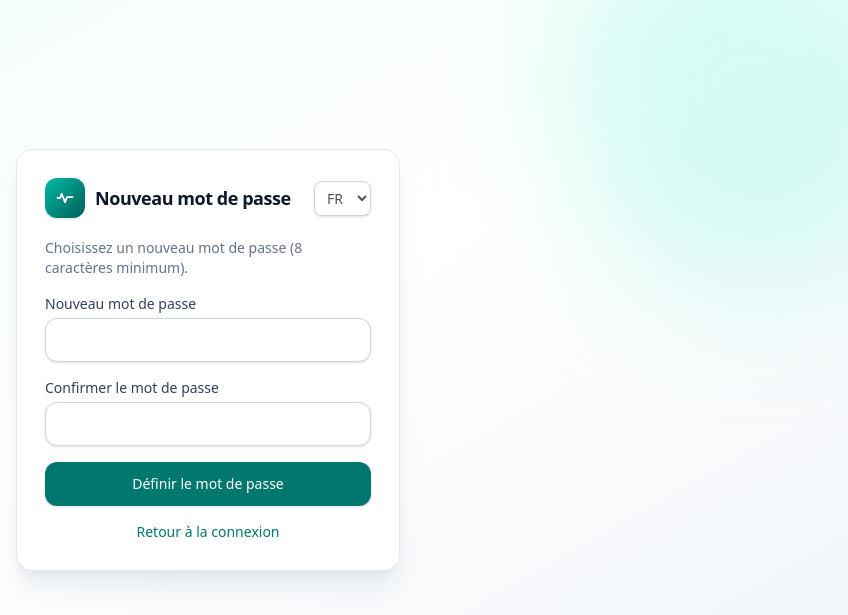
Test case: ResetPassword › refuse si les deux mots de passe different (pas d appel backend)
The image size is (848, 615).
In the password field labelled "Nouveau mot de passe": (208, 340) [45, 318, 371, 362], type "abcd1234"
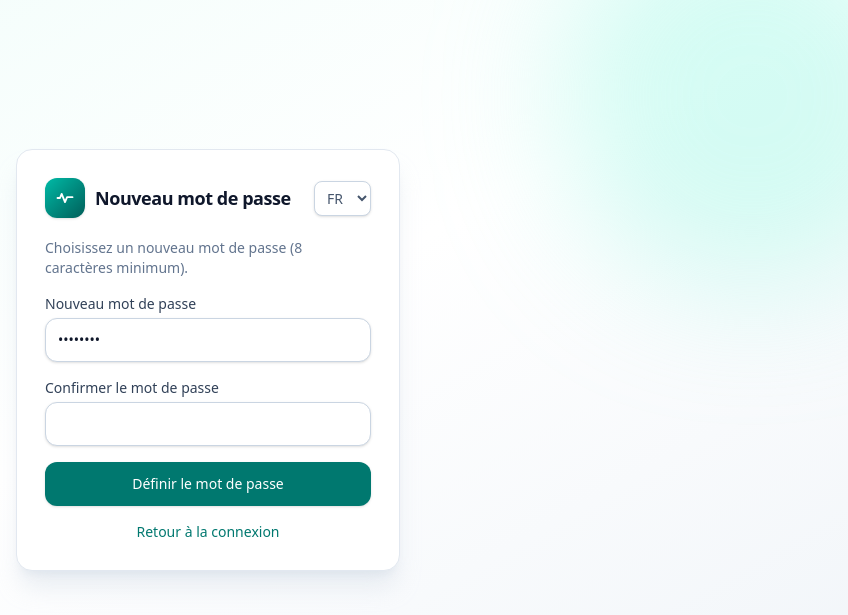
In the password field labelled "Confirmer le mot de passe": (208, 424) [45, 402, 371, 446], type "different1"
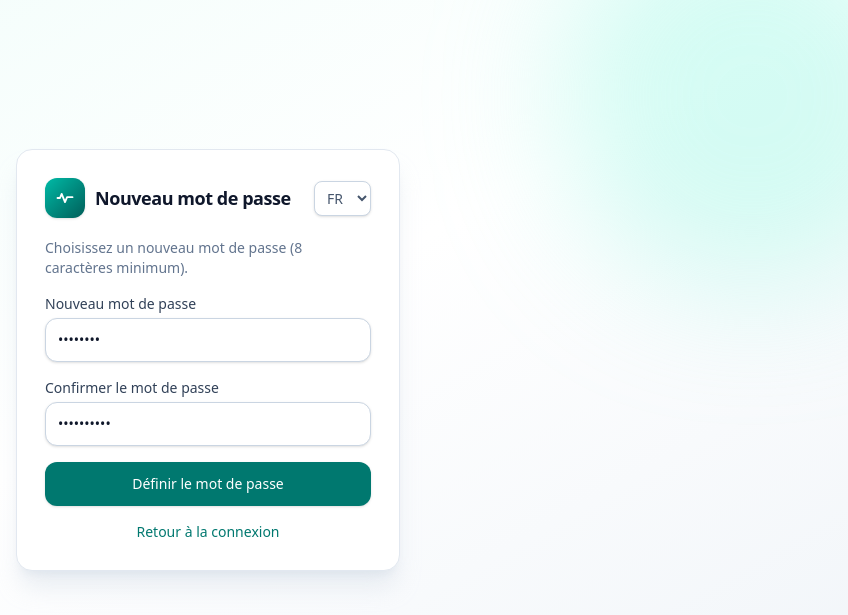
Click the button "Définir le mot de passe": (208, 484) [45, 462, 371, 506]
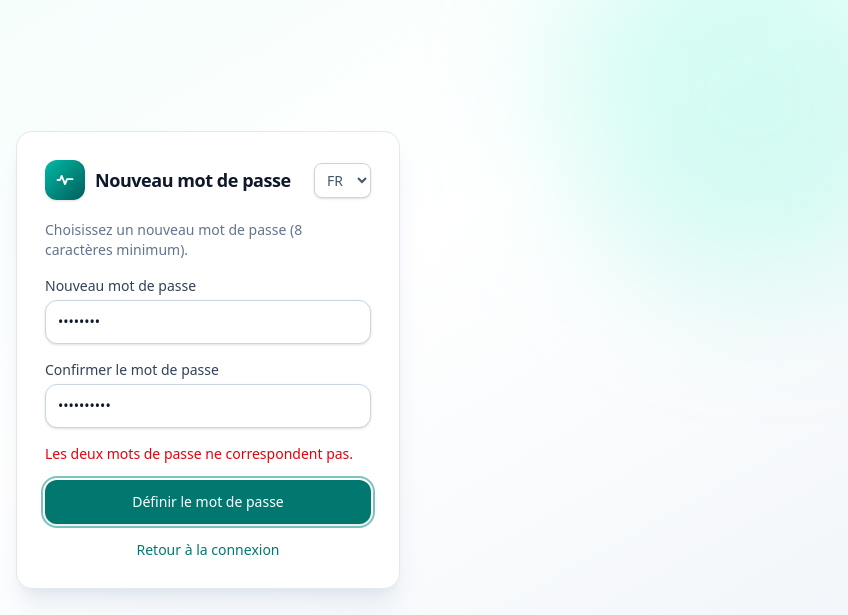
Now the text "Les deux mots de passe ne correspondent pas." is shown, box [45, 444, 371, 464]
